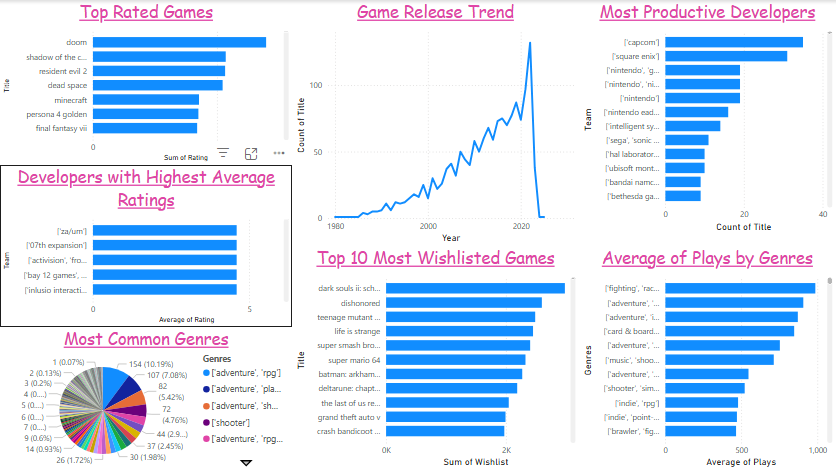

What the dashboard file says about the page in this screenshot:
{"tool":"powerbi","page":{"name":"Page 1","canvas":[1280,720],"ordinal":0},"visuals":[{"type":"barChart","title":"Top Rated Games","fields":{"Category":["cleaned_games.Title"],"Y":["Sum(cleaned_games.Rating)"]},"box":[0,0,447.4,252.5],"z":0},{"type":"barChart","title":"Developers with Highest Average Ratings","fields":{"Category":["cleaned_games.Team"],"Y":["Avg(cleaned_games.Rating)"]},"box":[0,252.5,447.4,247.7],"z":1000},{"type":"pieChart","title":"Most Common Genres","fields":{"Category":["cleaned_games.Genres"],"Y":["CountNonNull(cleaned_games.Title)"]},"box":[0,500.2,447.4,220.5],"z":2000},{"type":"lineChart","title":"Game Release Trend","fields":{"Category":["cleaned_games.Year"],"Y":["CountNonNull(cleaned_games.Title)"]},"box":[447.4,0,439.5,377.1],"z":3000},{"type":"barChart","title":"Top 10 Most Wishlisted Games","fields":{"Category":["cleaned_games.Title"],"Y":["Sum(cleaned_games.Wishlist)"]},"box":[447.4,377.1,439.5,343.6],"z":4000},{"type":"clusteredBarChart","fields":{"Category":["cleaned_games.Genres"],"Y":["Avg(cleaned_games.Plays)"]},"box":[886.9,377.1,393.1,343.6],"z":5000},{"type":"clusteredBarChart","title":"Most Productive Developers","fields":{"Category":["cleaned_games.Team"],"Y":["CountNonNull(cleaned_games.Title)"]},"box":[886.9,0,393.1,359.6],"z":6000}]}

Visuals, with their boxes in screenshot pixels (x1, y1, x2, y2), scaled from the page's 1280x720 canvas onto the 836x470 screenshot:
"Top Rated Games" barChart: 0:0:292:165
"Developers with Highest Average Ratings" barChart: 0:165:292:327
"Most Common Genres" pieChart: 0:327:292:469
"Game Release Trend" lineChart: 292:0:579:246
"Top 10 Most Wishlisted Games" barChart: 292:246:579:469
clusteredBarChart - cleaned_games.Genres x Avg(cleaned_games.Plays): 579:246:835:469
"Most Productive Developers" clusteredBarChart: 579:0:835:235
